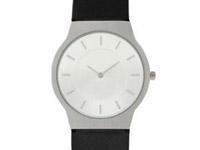watch: (52, 26, 147, 127)
